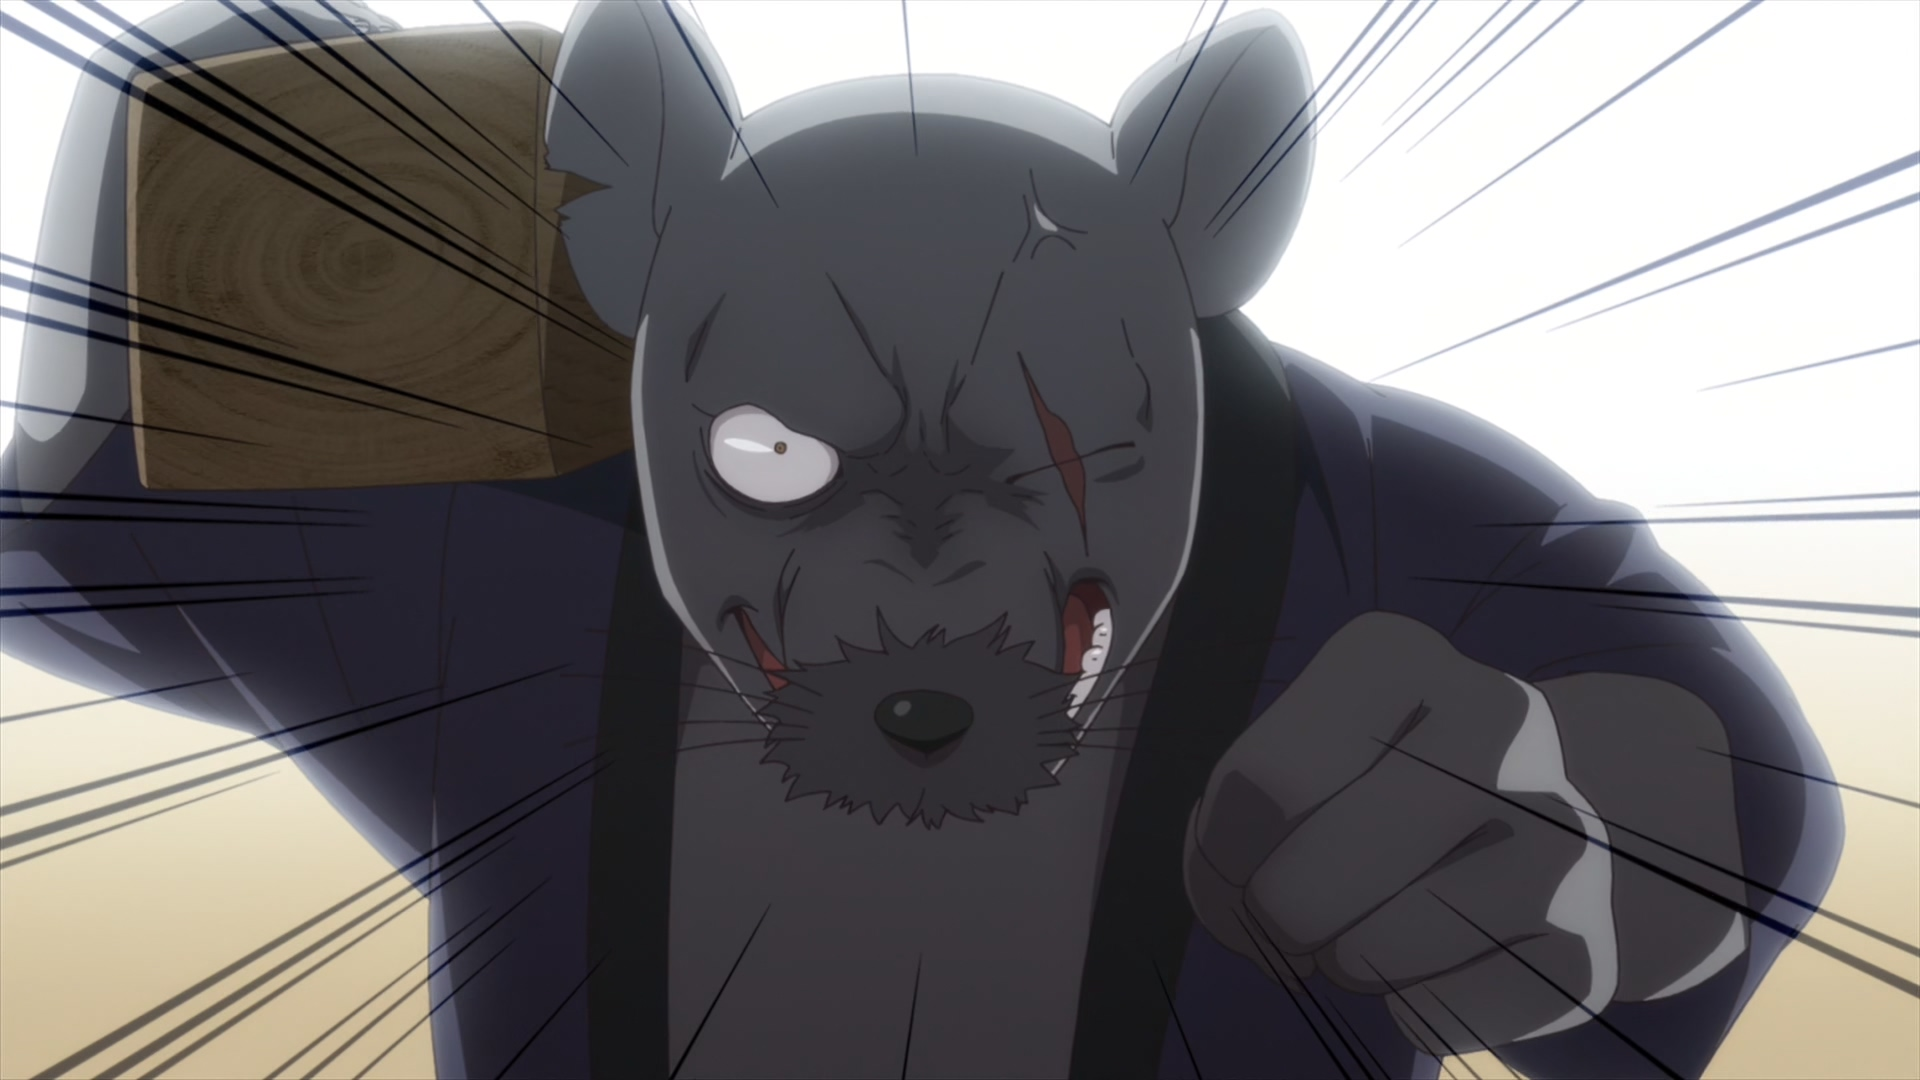其他: (1, 1, 1845, 1080)
